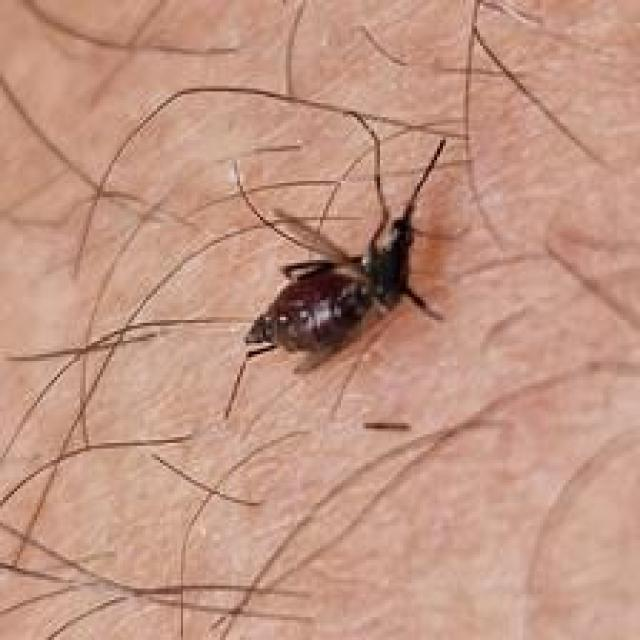Aedes albopictus: (218, 109, 453, 420)
